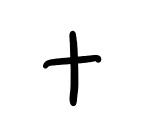plus: (43, 31, 101, 106)
